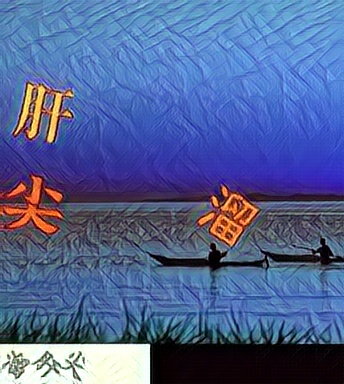B8CE: (9, 79, 74, 143)
BCE2: (2, 172, 67, 236)
C1EF: (194, 182, 259, 246)
